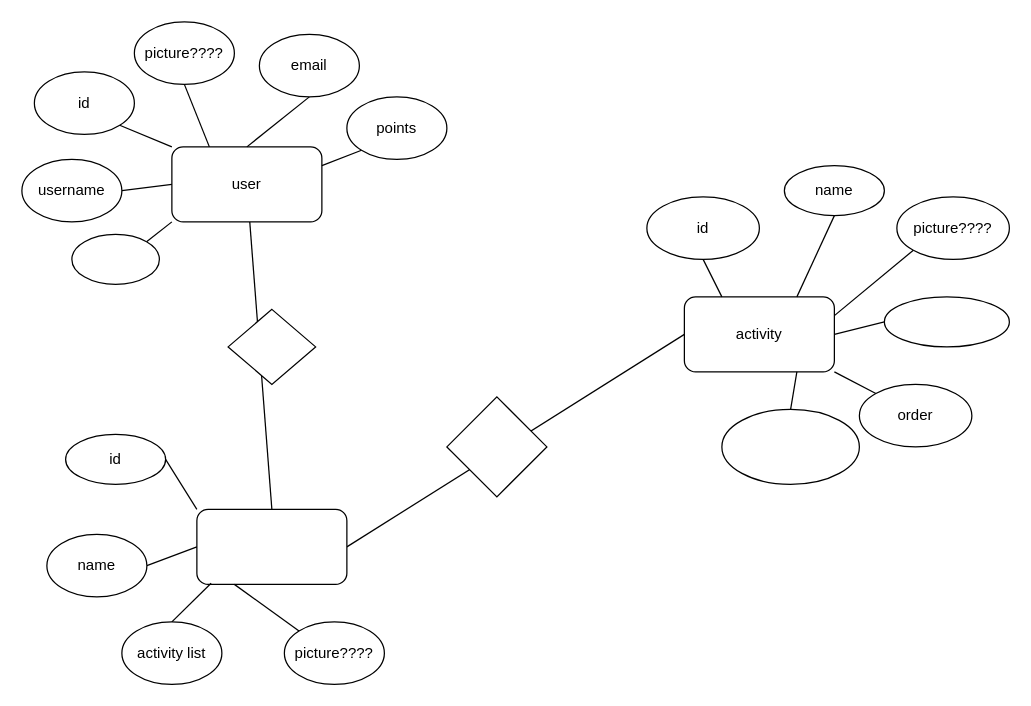
The diagram is 1031 pixels wide and 706 high, and some of its shapes have lost their labels. The shapes that lost their labels are listed below. From the top down, each one's centre as x and y in pixels, then its label:
At [115,258]: "password".
At [946,321]: "duration".
At [271,346]: "has".
At [496,446]: "is part of".
At [790,446]: "status (completet / open)".
At [271,546]: "routine".
